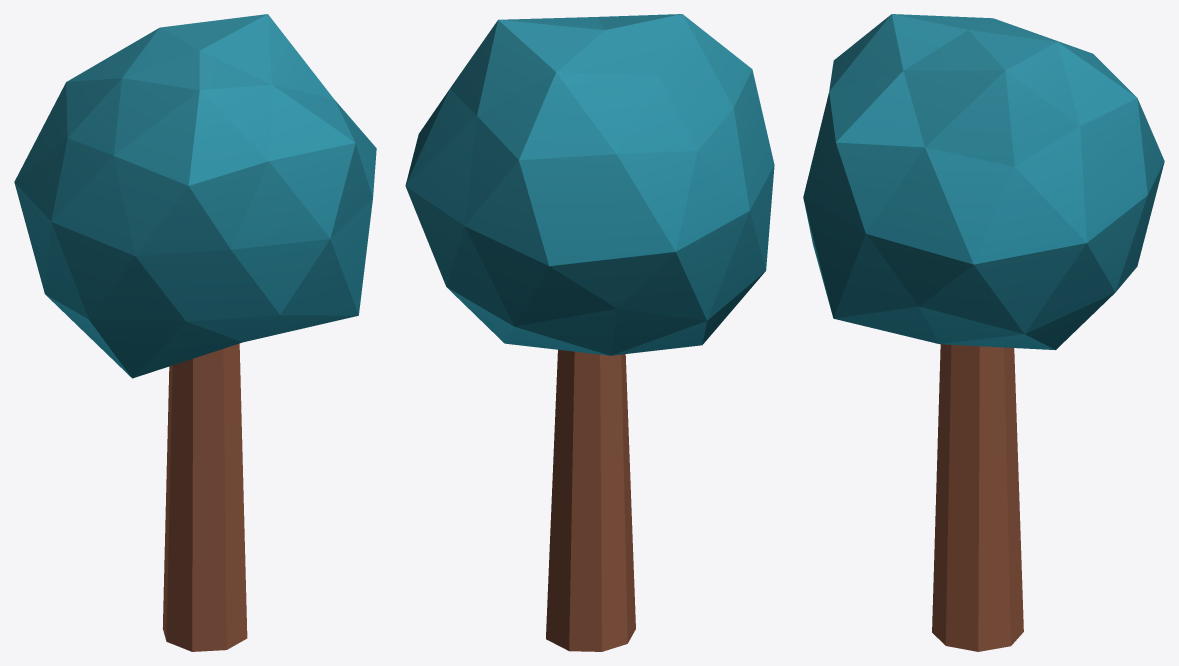
Rendered from Tree_04_gradient_blue_pal.fbx.
3 views of the same model, side by side, from view 1: azimuth 30°, elevation 25°; view 2: azimuth 150°, elevation 25°; view 3: azimuth 270°, elevation 25° (orthographic). The views are drawn at different scales.
Parts seen in each view (by area): view 1: Tree_04_gradient_blue_pal; view 2: Tree_04_gradient_blue_pal; view 3: Tree_04_gradient_blue_pal.
Boxes of the visible parts, <box> form: Tree_04_gradient_blue_pal: <box>14,14,376,651</box>; Tree_04_gradient_blue_pal: <box>405,14,774,651</box>; Tree_04_gradient_blue_pal: <box>803,14,1164,651</box>.
Bounding box in the file's own units: 111 × 193 × 105.
